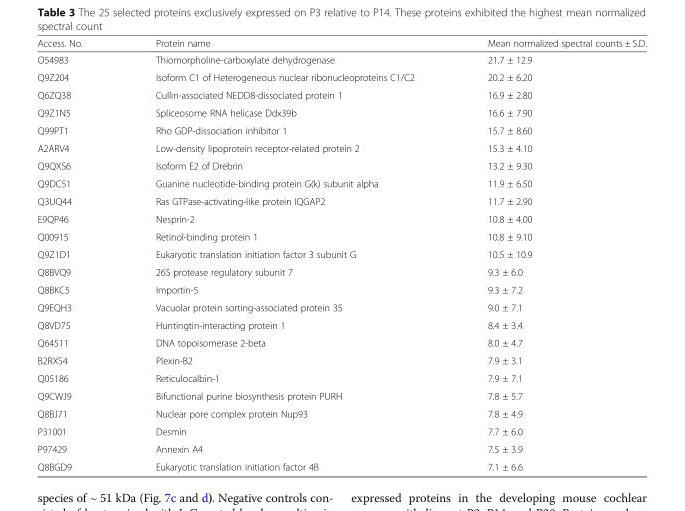table: (36, 37, 646, 472)
table column: (118, 37, 450, 472), (450, 37, 646, 472), (36, 37, 118, 472)
table column header: (36, 37, 646, 50)
table row: (36, 50, 646, 68), (36, 85, 646, 103), (36, 103, 646, 121), (36, 138, 646, 156), (36, 156, 646, 174), (36, 174, 646, 192), (36, 209, 646, 227), (36, 227, 646, 245), (36, 262, 646, 280), (36, 280, 646, 298), (36, 315, 646, 333), (36, 333, 646, 351), (36, 351, 646, 369), (36, 386, 646, 404), (36, 404, 646, 422), (36, 439, 646, 457), (36, 68, 646, 85), (36, 121, 646, 138), (36, 192, 646, 209), (36, 245, 646, 262), (36, 298, 646, 315), (36, 369, 646, 386), (36, 422, 646, 439), (36, 457, 646, 472), (36, 37, 646, 50)
